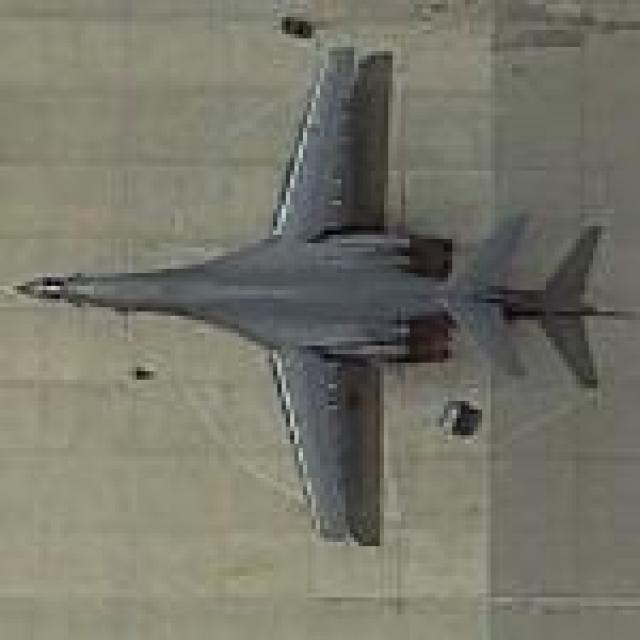B-1_TopDown: (4, 30, 636, 546)
